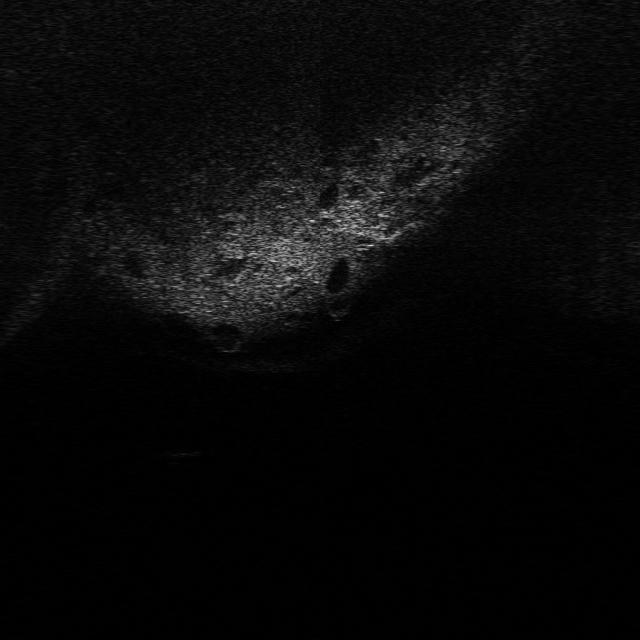ball: (323, 294, 358, 320)
